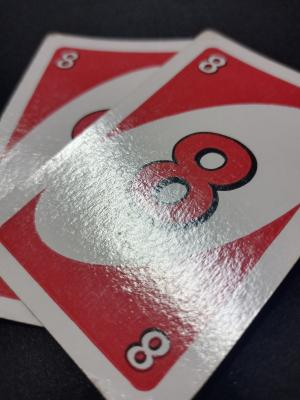num_8: (118, 124, 266, 243), (117, 317, 177, 380), (51, 45, 86, 74)
